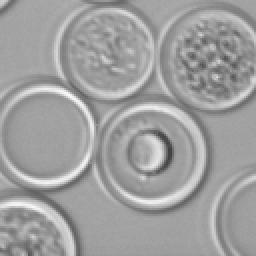picoshell: (92, 96, 208, 212), (156, 0, 254, 112), (0, 76, 94, 190), (54, 4, 154, 100), (0, 190, 78, 254), (208, 168, 254, 254)
